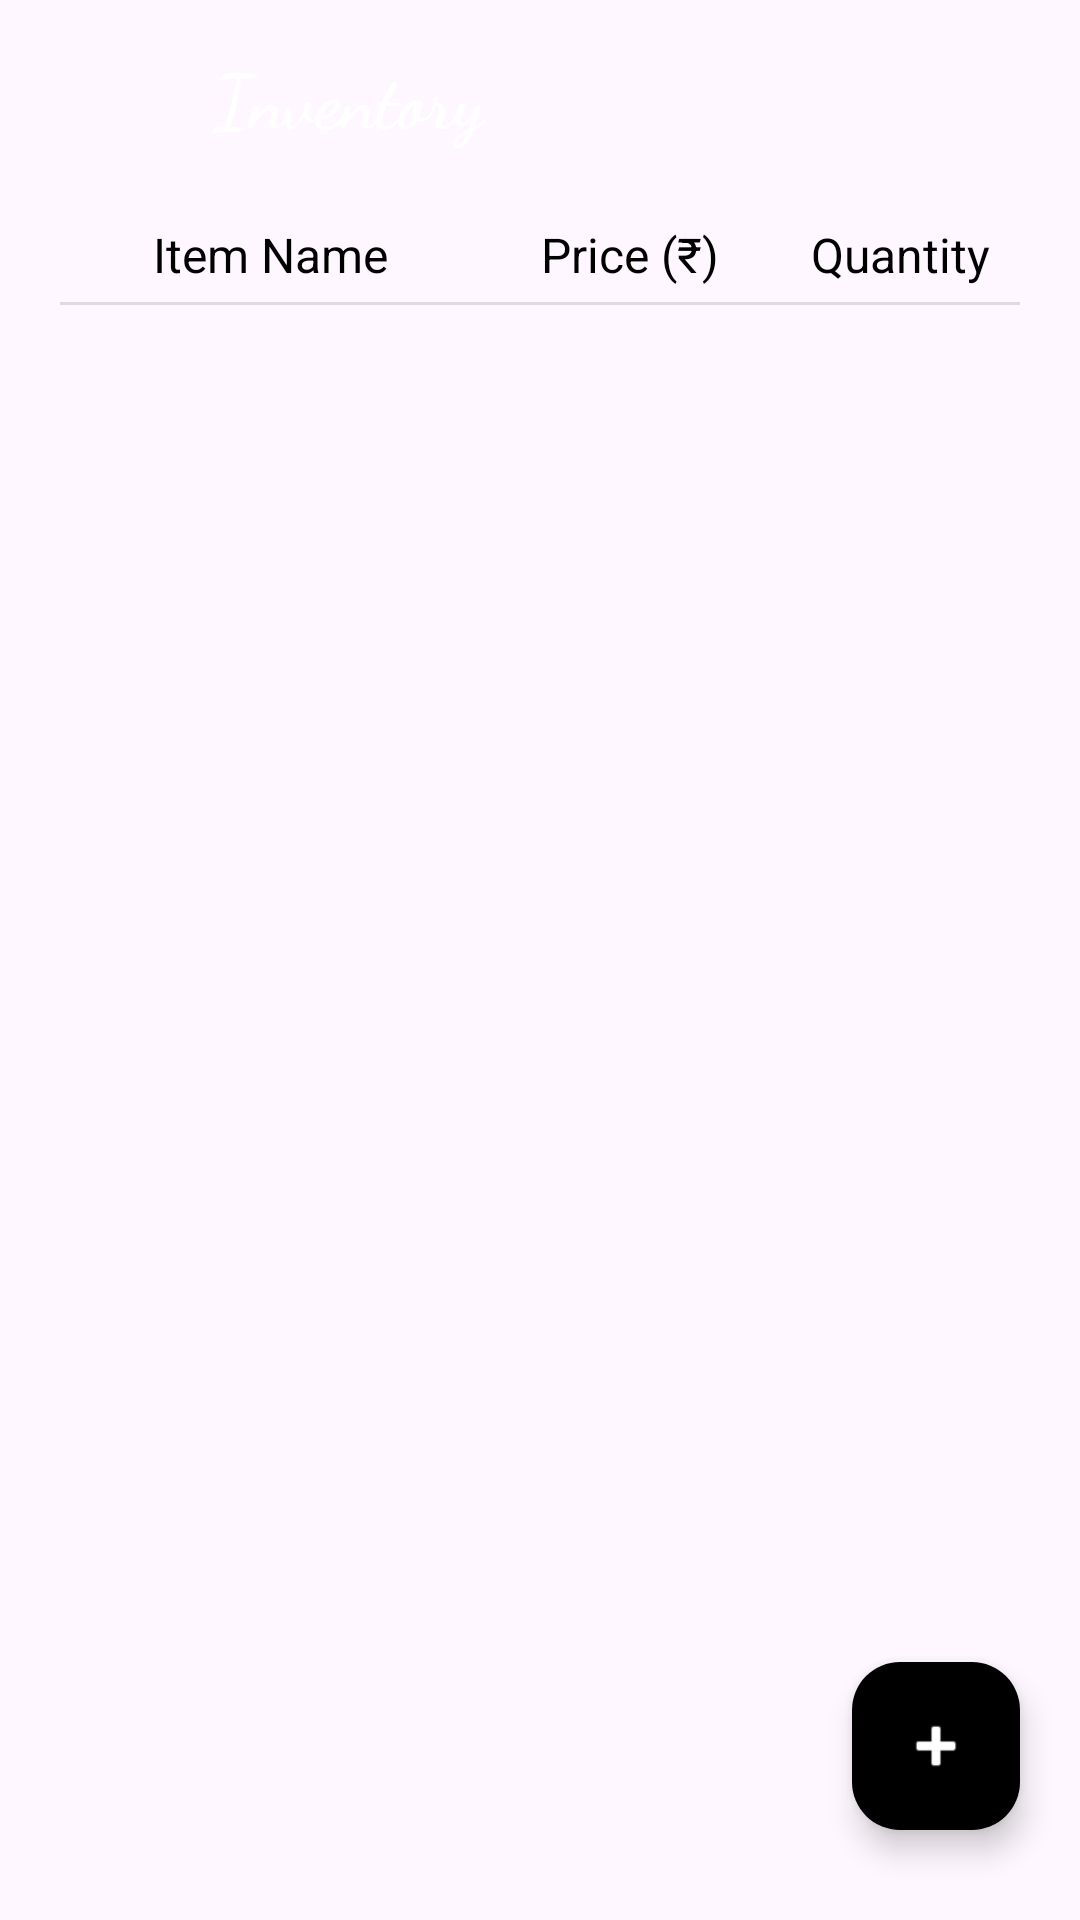

Where icons sit on this 1080w x 1920h app screen, as (x1, y1, x2, y2):
add: (852, 1662, 1020, 1830)
